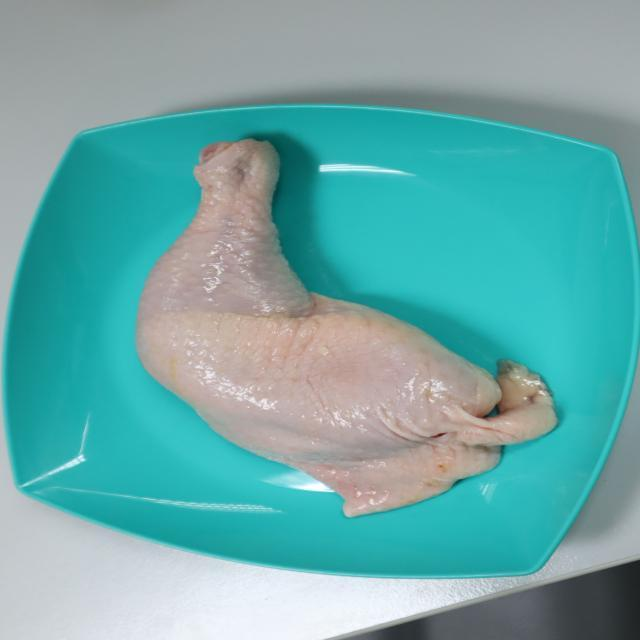quater: (146, 130, 544, 508)
